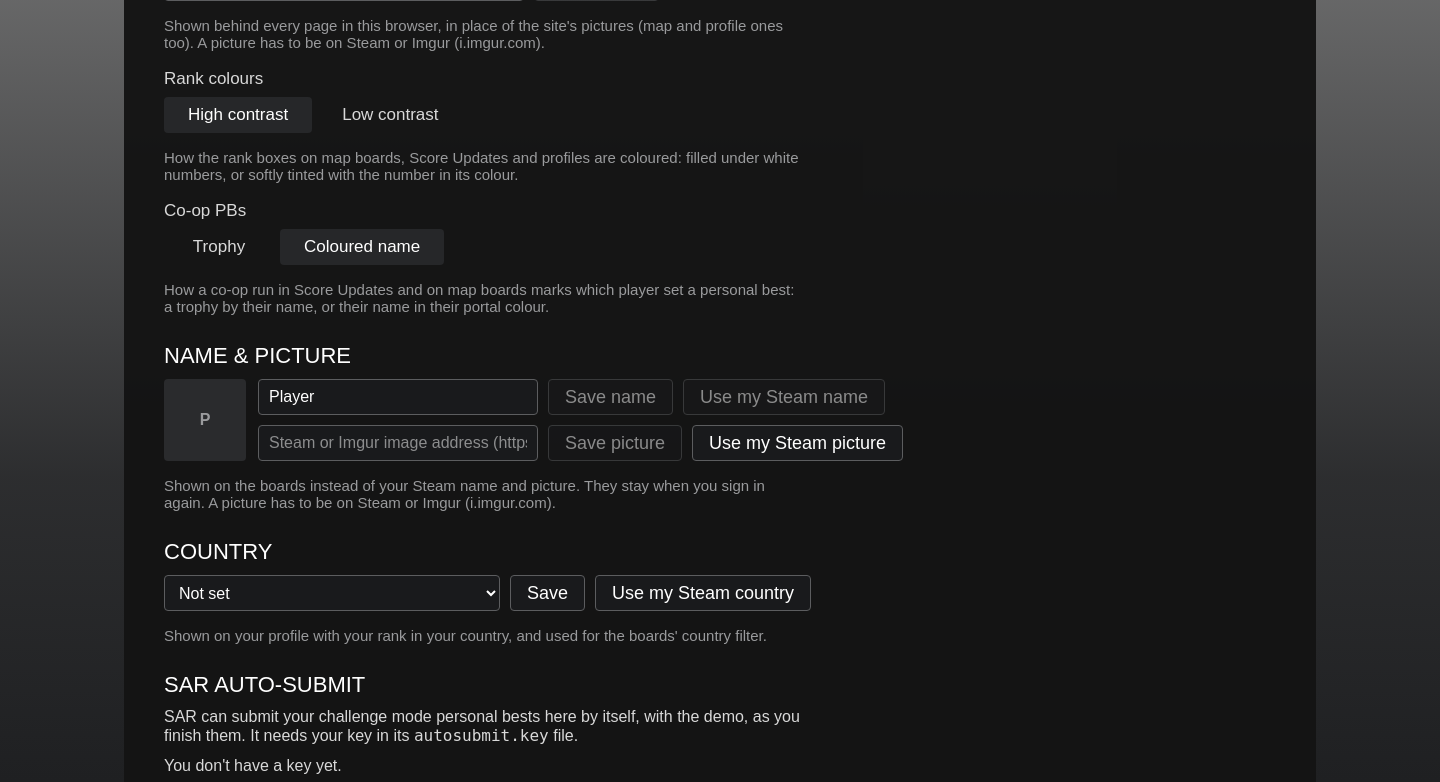
Scenario: Settings › saves your own name, and goes back to the Steam one
The width and height of the screenshot is (1440, 782).
(page scrolled)
Check: the button "Save name" is disabled, box [548,379,673,415]
Check: the button "Use my Steam name" is disabled, box [683,379,885,415]
Type " Chell " into the field named "Name" at point(398, 397), box [258,379,538,415]
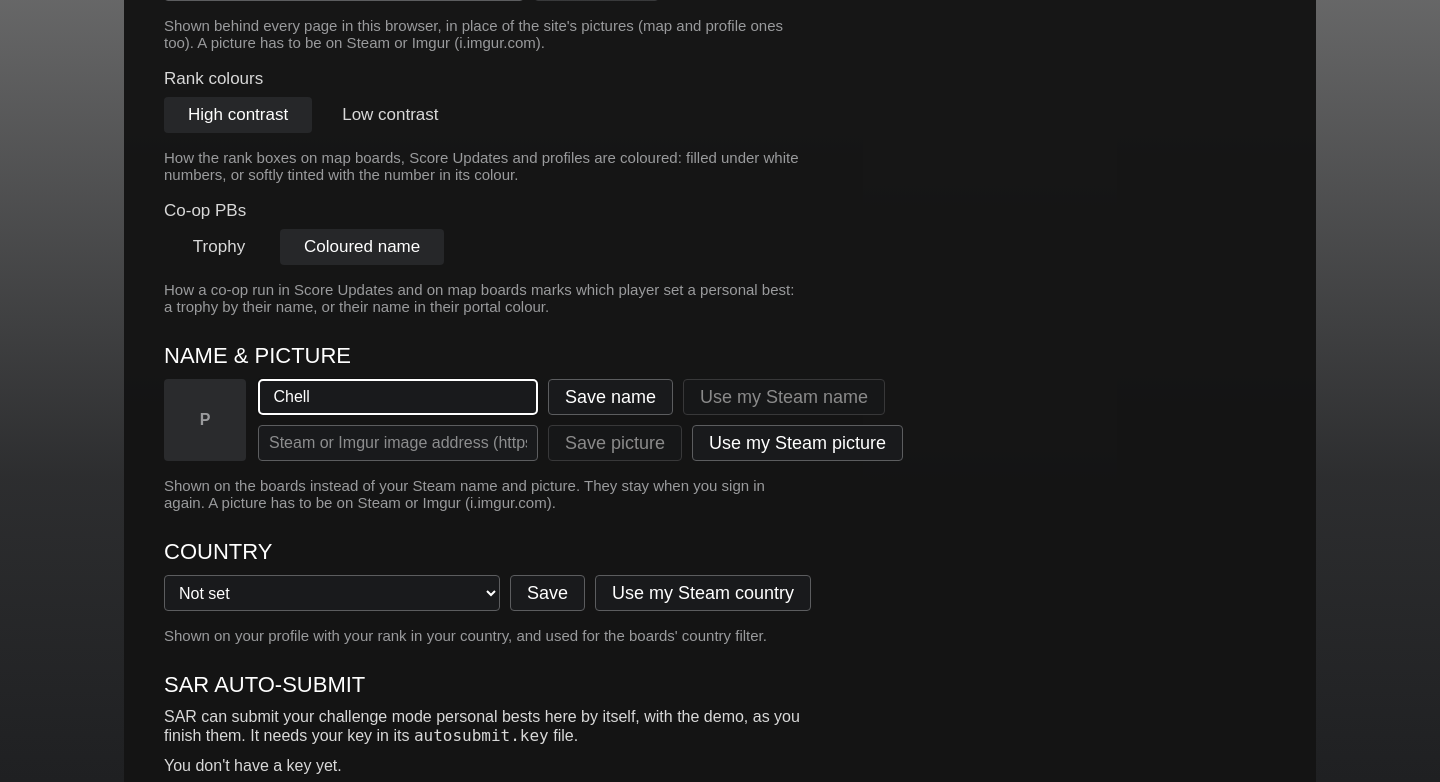
Click the button "Save name" at point(611, 397), box [548,379,673,415]
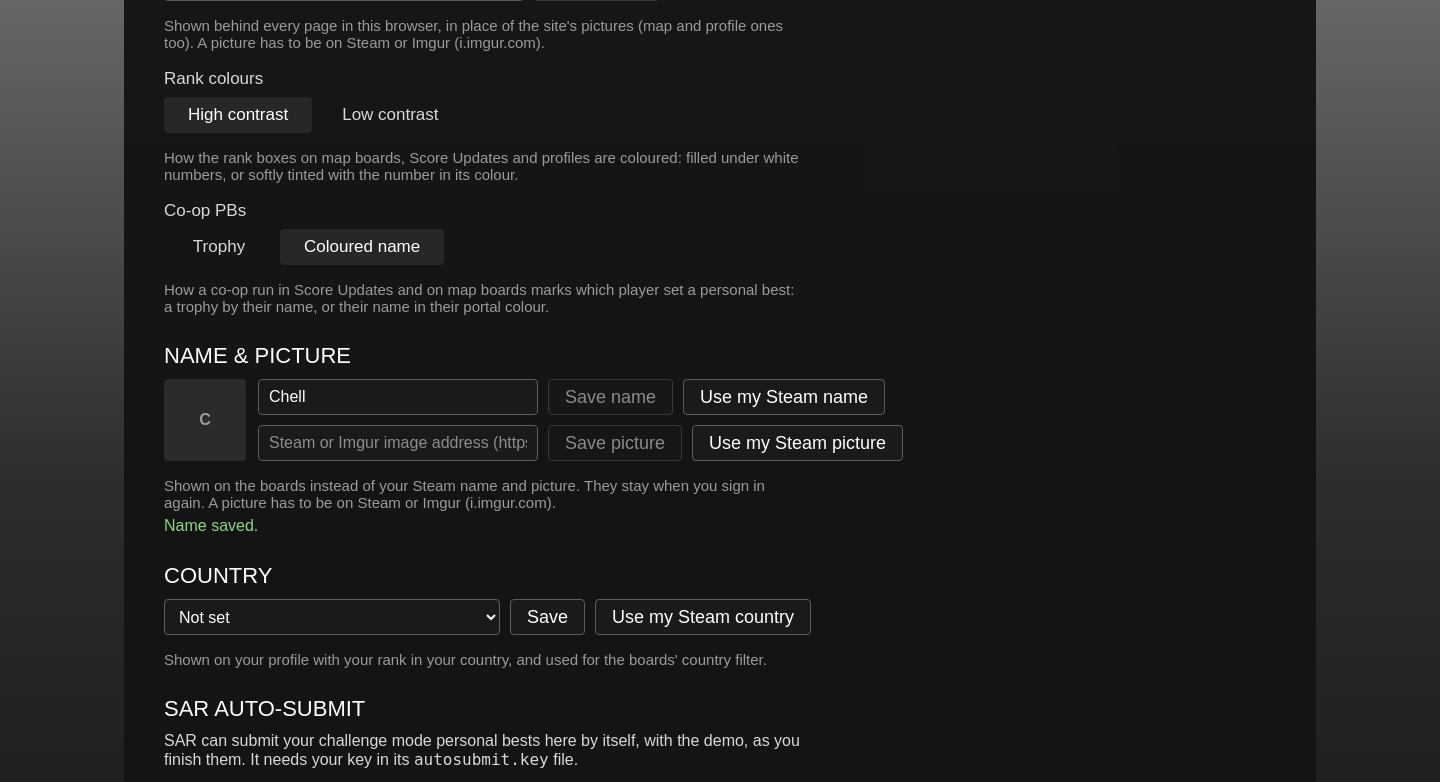
Check: the text "Name saved." is shown, box [164,517,258,534]
Check: the button "Use my Steam name" is enabled
Click the button "Use my Steam name" at point(784, 397), box [683,379,885,415]
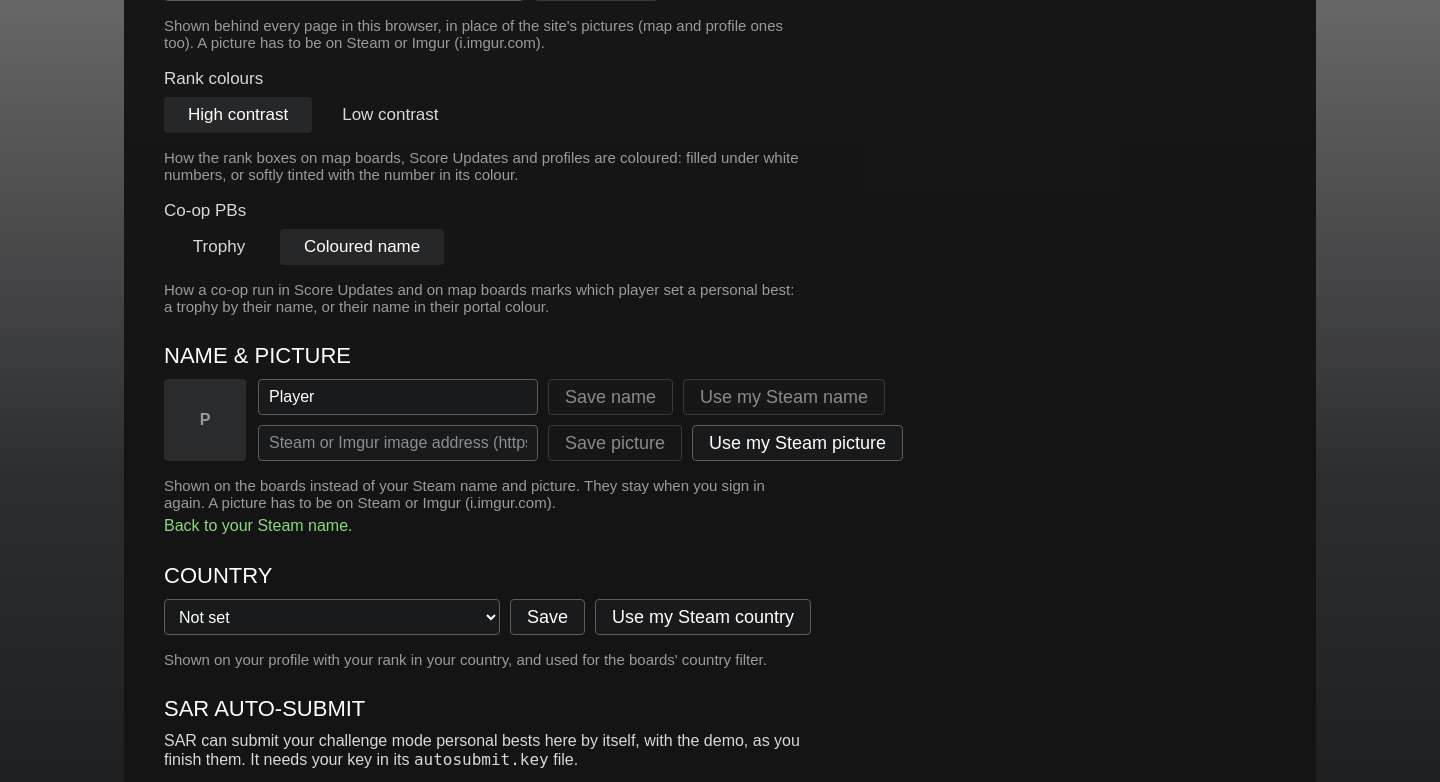
Check: the text "Back to your Steam name." is shown, box [164,517,352,534]
